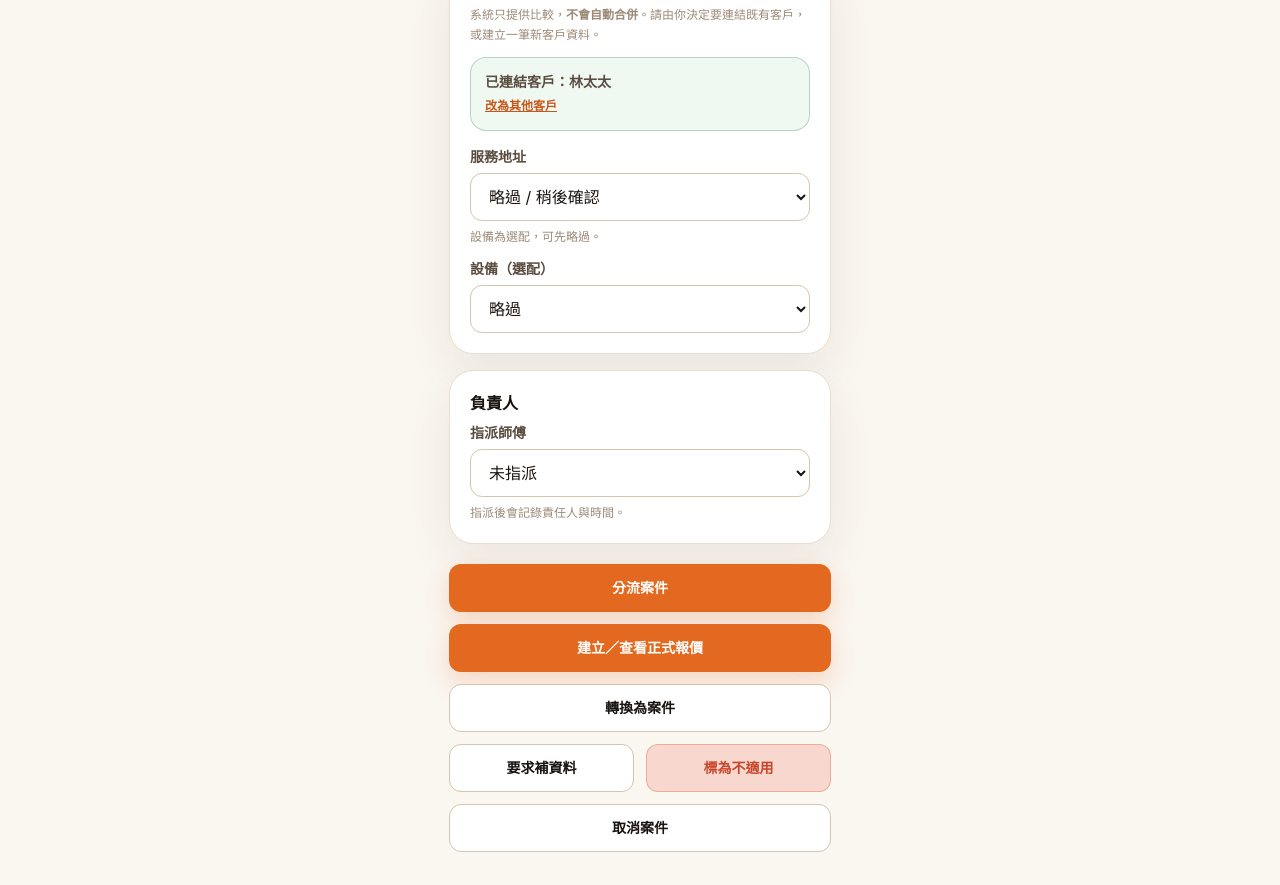
Test case: PilotRequestDetail › converts a triaged request and shows the real case number without a broken link
(page scrolled)
Click the button "轉換為案件": (640, 708) [449,684,831,732]
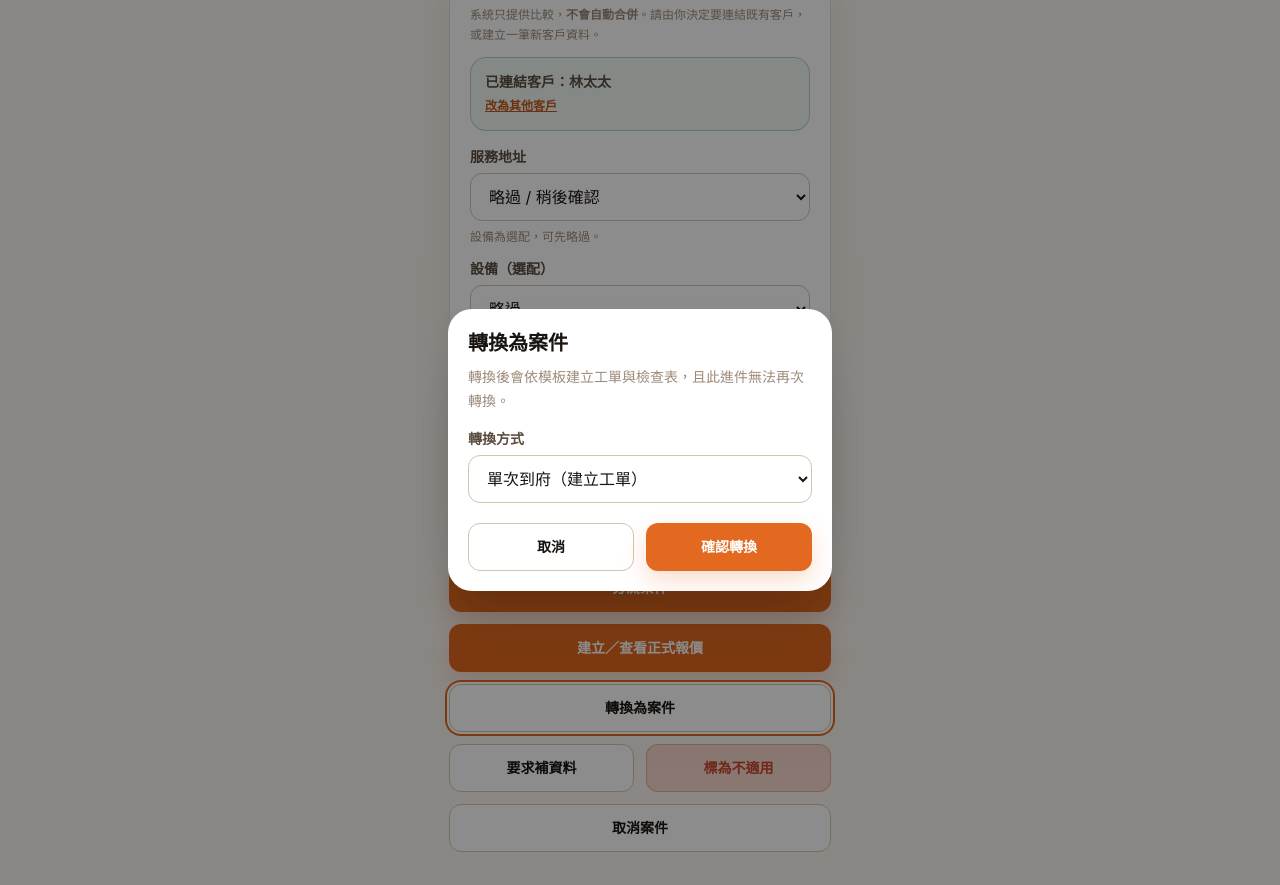
Click the button "確認轉換": (729, 547) [646,523,812,571]
(page scrolled)
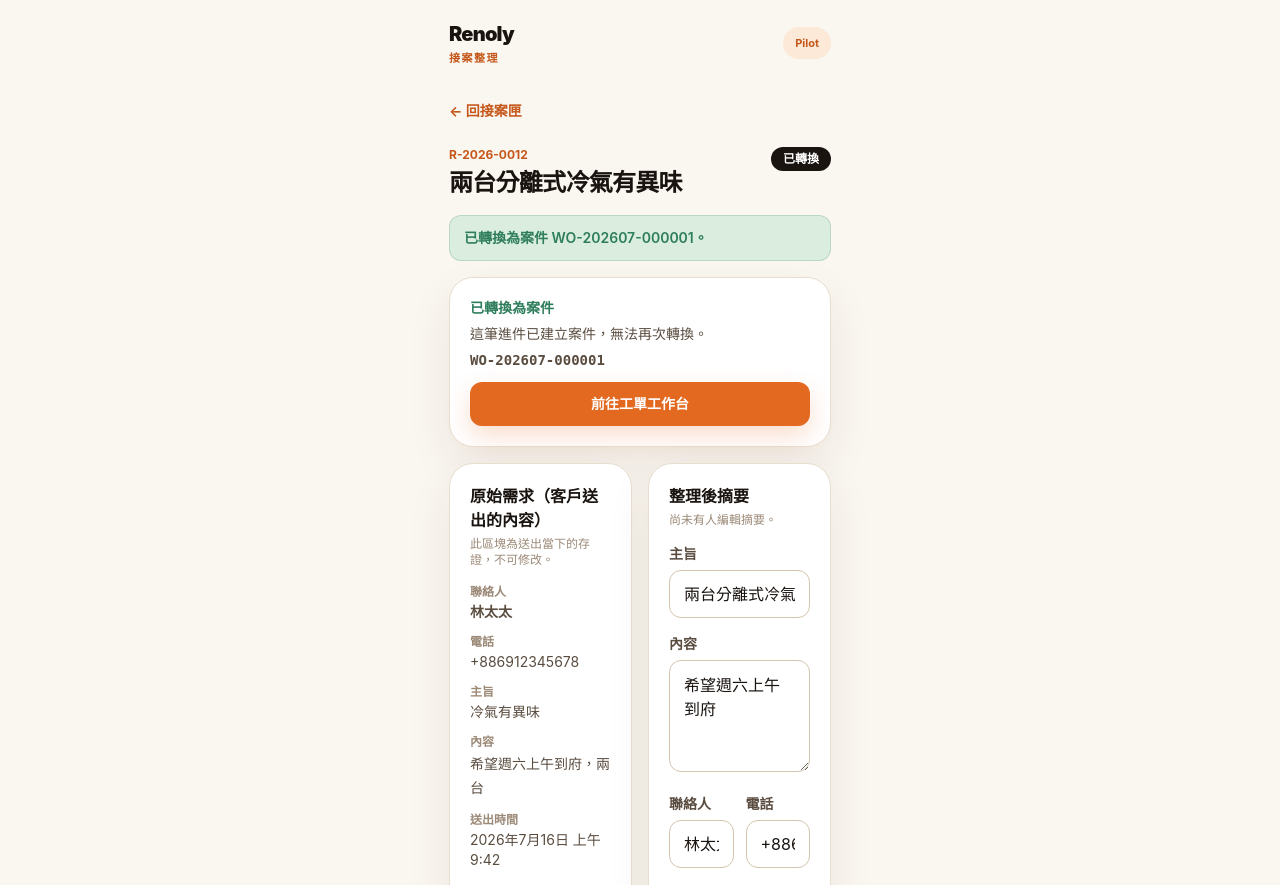
expect the text "WO-202607-000001" is shown: met, box [470,352,605,368]
